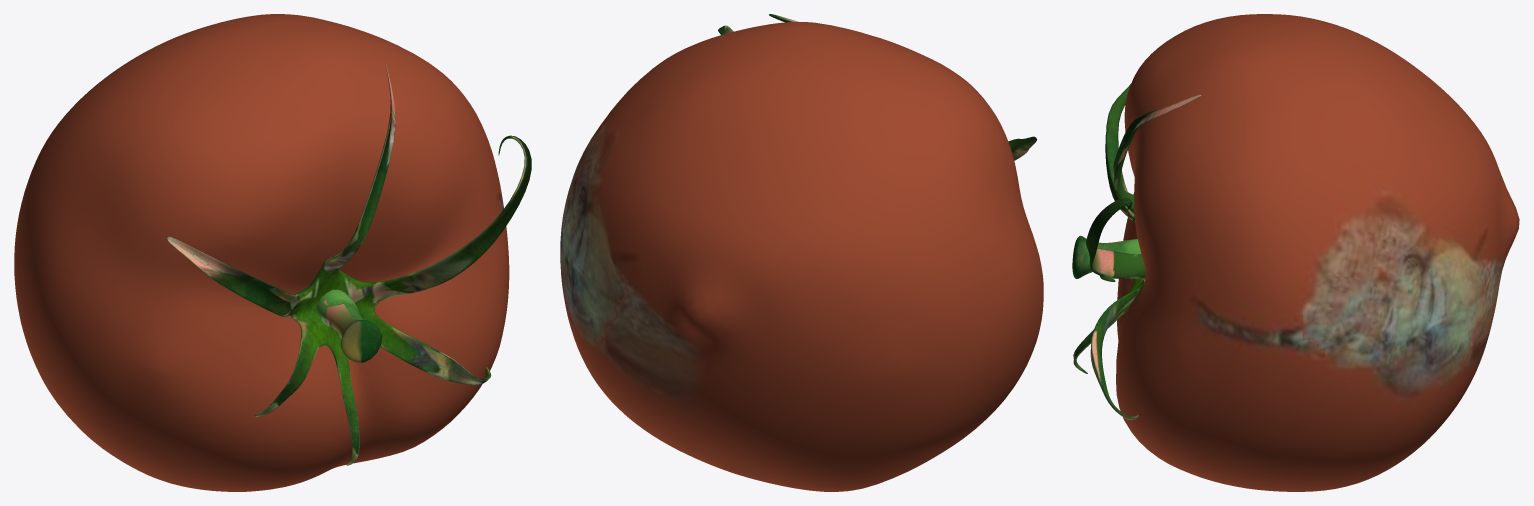
Rendered from tomatorotten4.glb.
The picture shows the model from 3 angles, left to right: view 1: azimuth 30°, elevation 25°; view 2: azimuth 150°, elevation 25°; view 3: azimuth 270°, elevation 25°; orthographic projection. The views are drawn at different scales.
Visible parts, largest first — view 1: tomatoripe.005; view 2: tomatoripe.005; view 3: tomatoripe.005.
Part boxes in pixels (<box>): tomatoripe.005: <box>14,14,531,491</box>; tomatoripe.005: <box>560,14,1043,491</box>; tomatoripe.005: <box>1072,14,1519,491</box>.
Bounding box in the file's own units: 0.0423 × 0.0392 × 0.0375.
3 materials, 3 textured.
